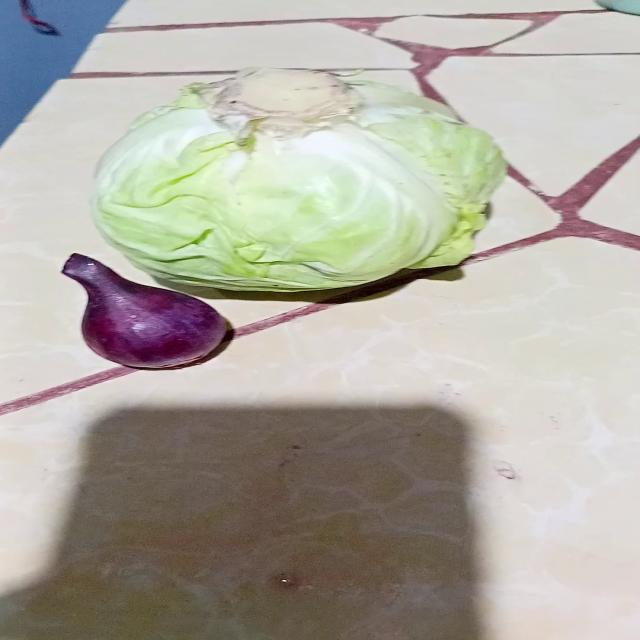cabbage: (91, 71, 504, 299)
onion: (61, 254, 241, 374)
